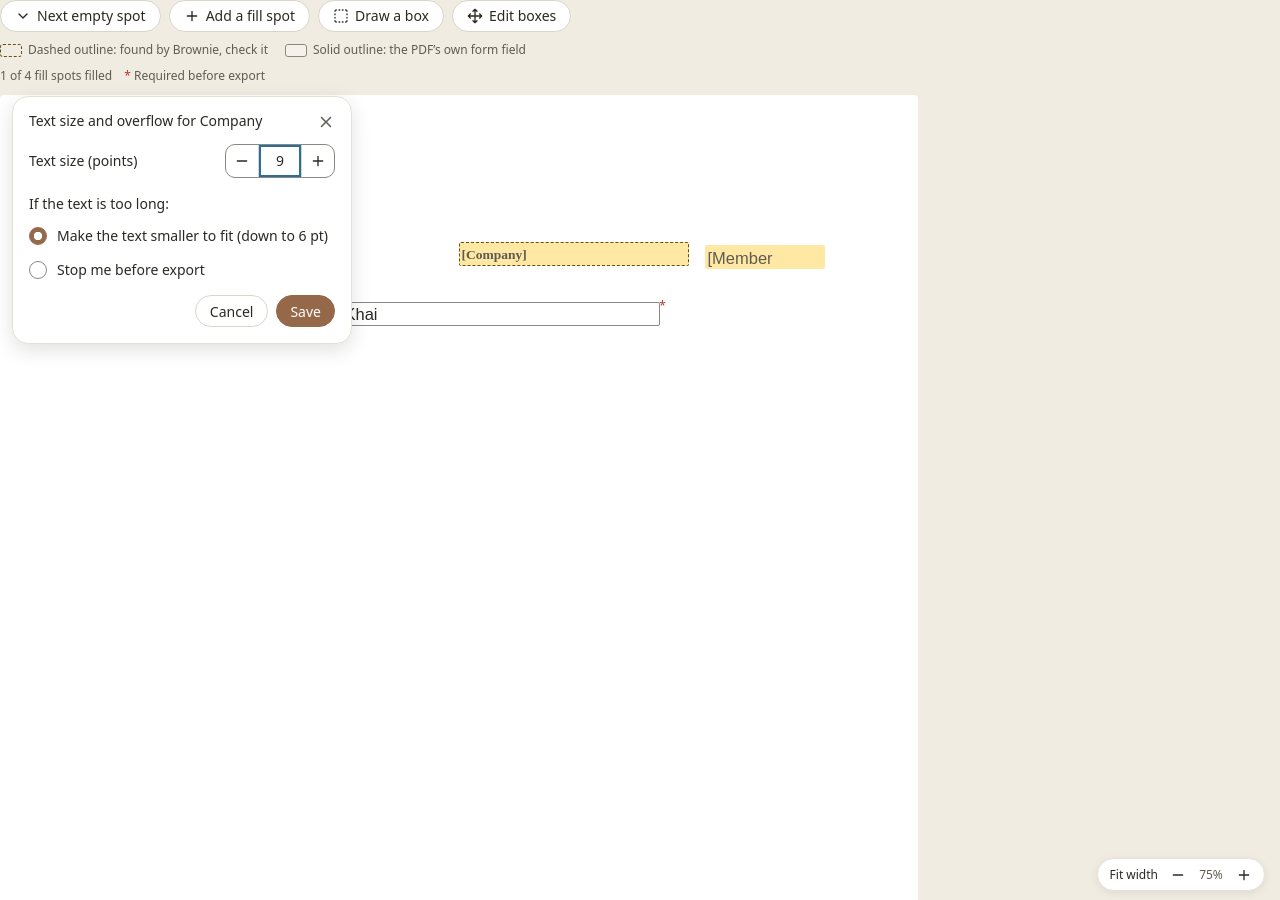
Test: PdfFormPage › opens the questions the bar asks about a spot: rename, text size, remove
The width and height of the screenshot is (1280, 900).
Check: the heading "Text size and overflow for Company" is shown, box left=29, top=113, right=303, bottom=130
Check: the number field labelled "Text size (points)" holds "9", box left=258, top=145, right=302, bottom=177
Click the radio button labelled "Stop me before export": (38,270) left=29, top=261, right=47, bottom=279
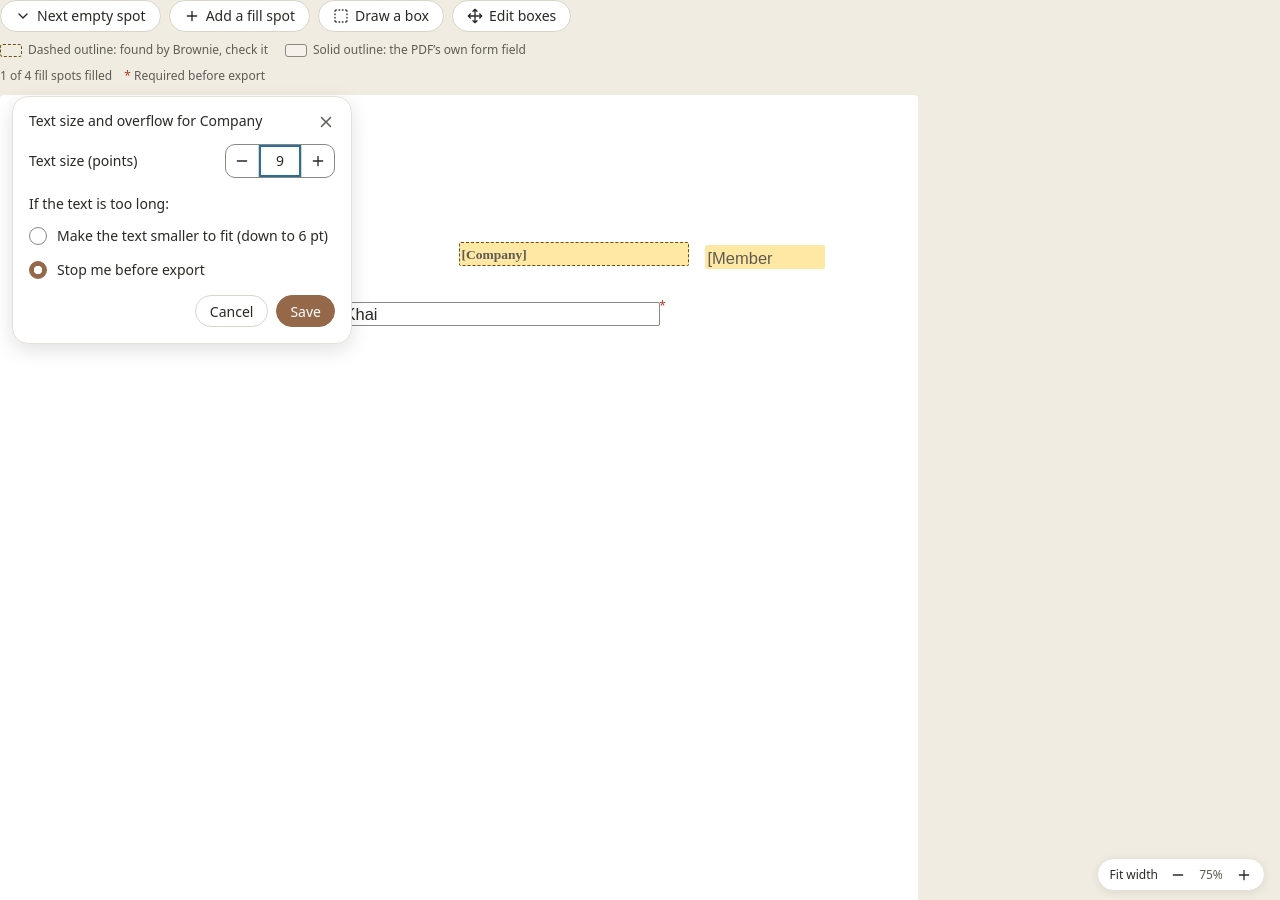
Submit the form, box left=13, top=97, right=351, bottom=343
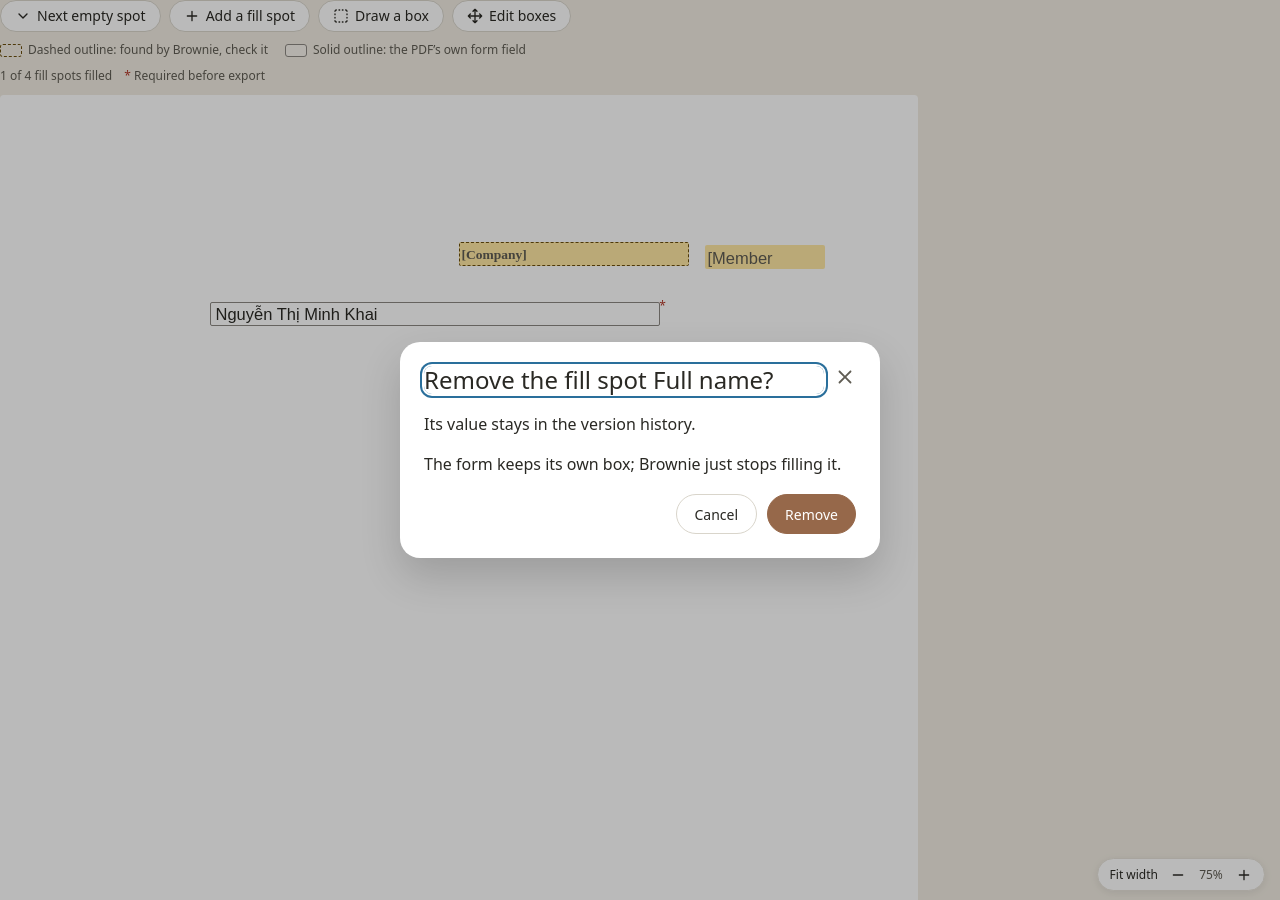
Check: the dialog shows "The form keeps its own box; Brownie just stops filling it.", box left=424, top=453, right=841, bottom=475
